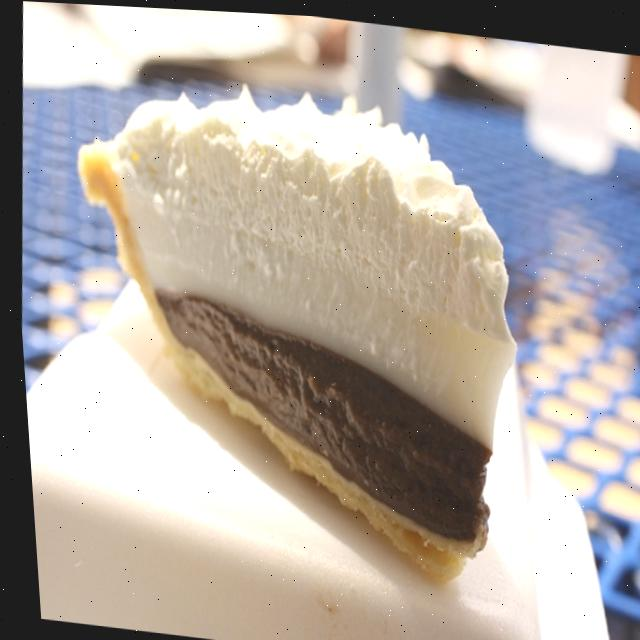蛋糕甜品: (7, 11, 621, 639)
